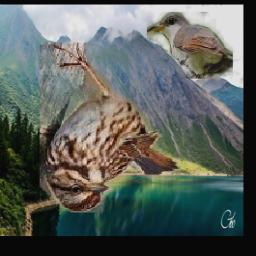Cuckoo: (148, 12, 234, 79)
Sparrow: (40, 43, 181, 213)
